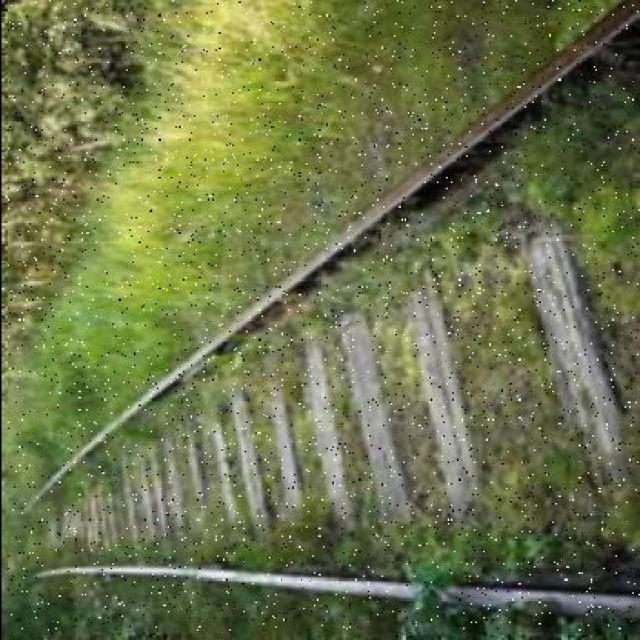rail: (7, 0, 638, 631)
